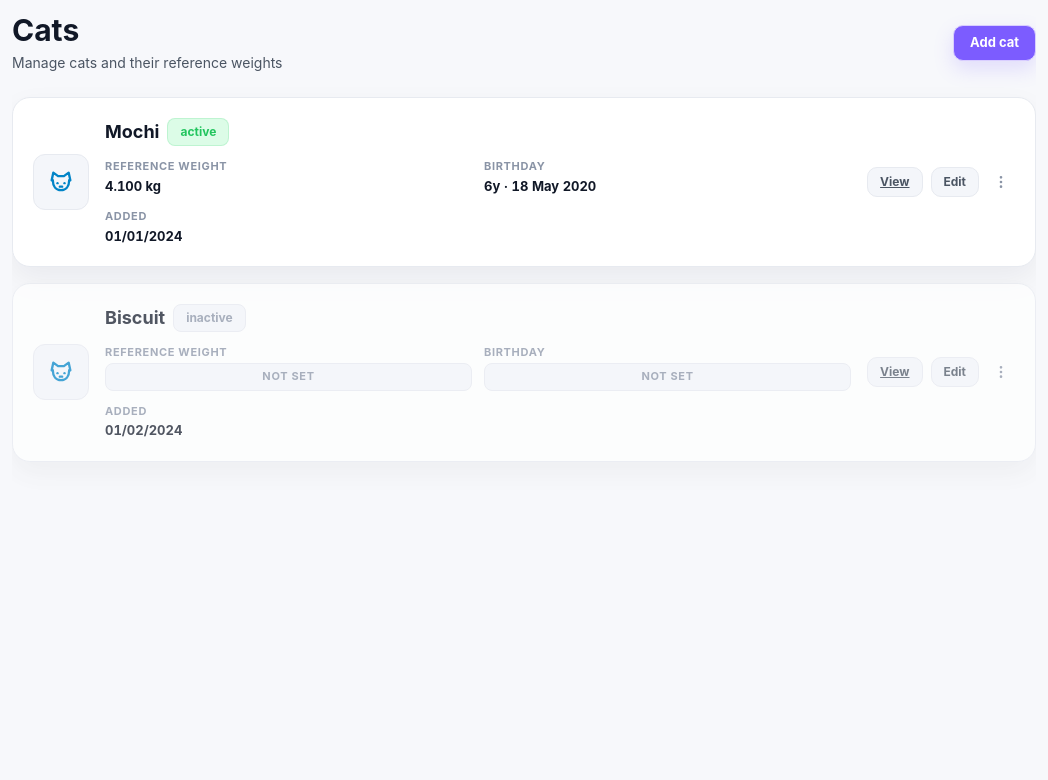
Scenario: Cats page › handleToggleActive › keeps reactivate in the secondary action menu and shows an error toast when reactivate fails
Click the button named "Actions for Biscuit".
click(1001, 372)  # box [987, 358, 1015, 386]
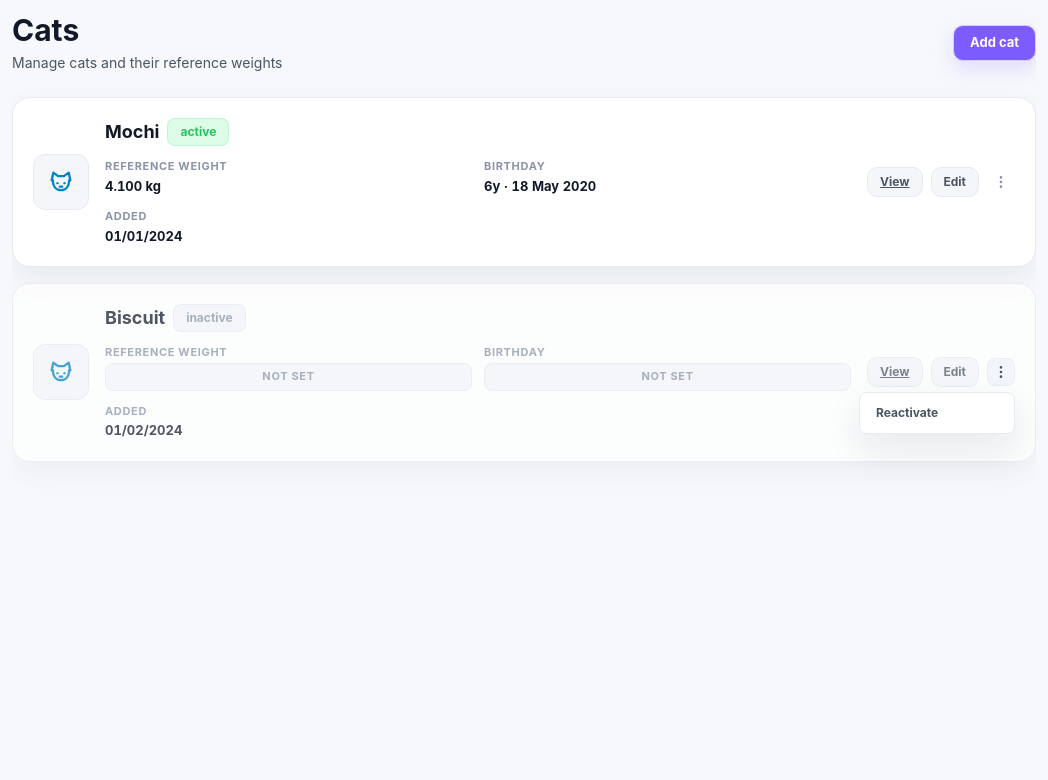
Click the button "Reactivate".
click(937, 413)  # box [864, 397, 1010, 429]
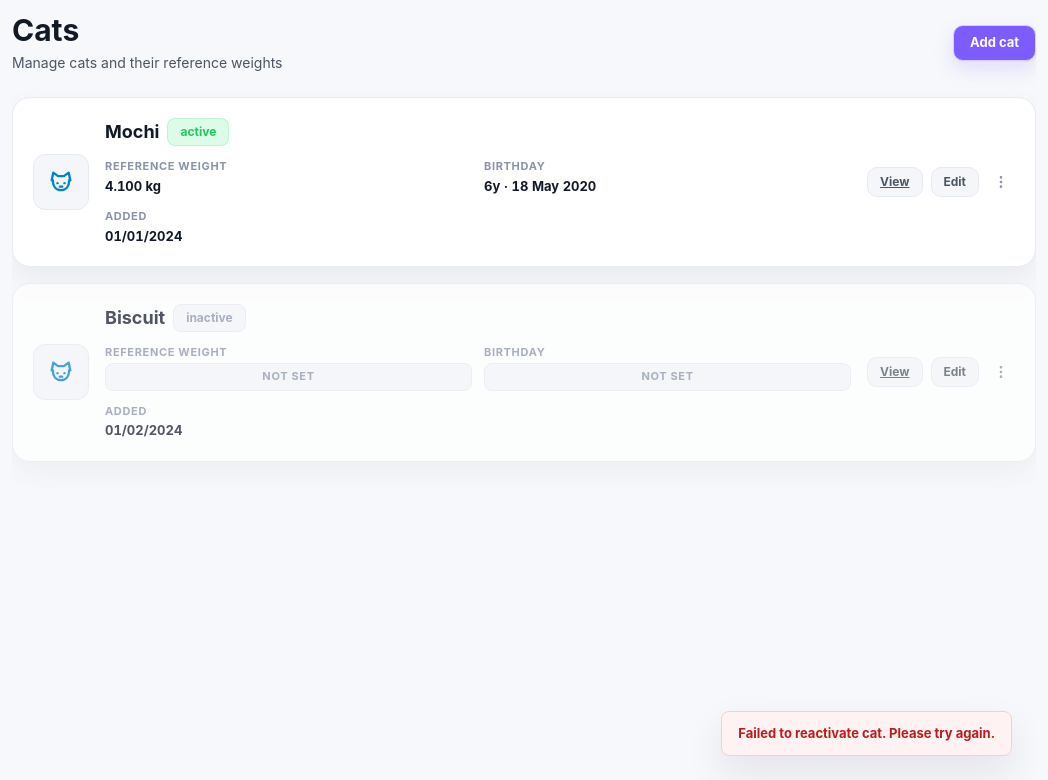
Expected: the message shows "Failed to reactivate cat", [738, 724, 995, 740]
